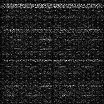lte: (1, 2, 104, 8), (1, 28, 104, 32), (1, 58, 104, 62)
